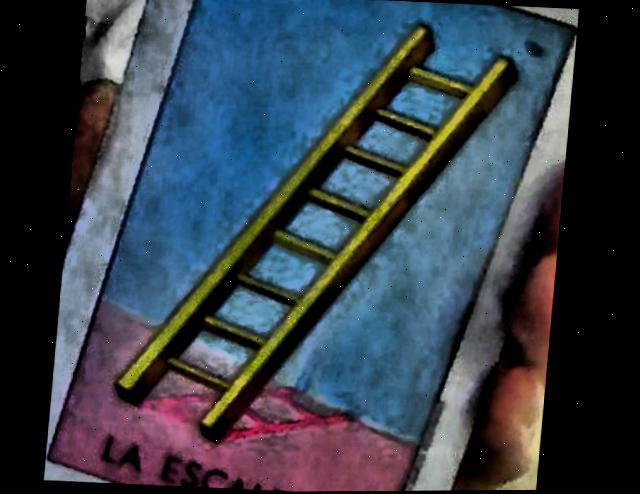La Escalera: (50, 0, 577, 492)
